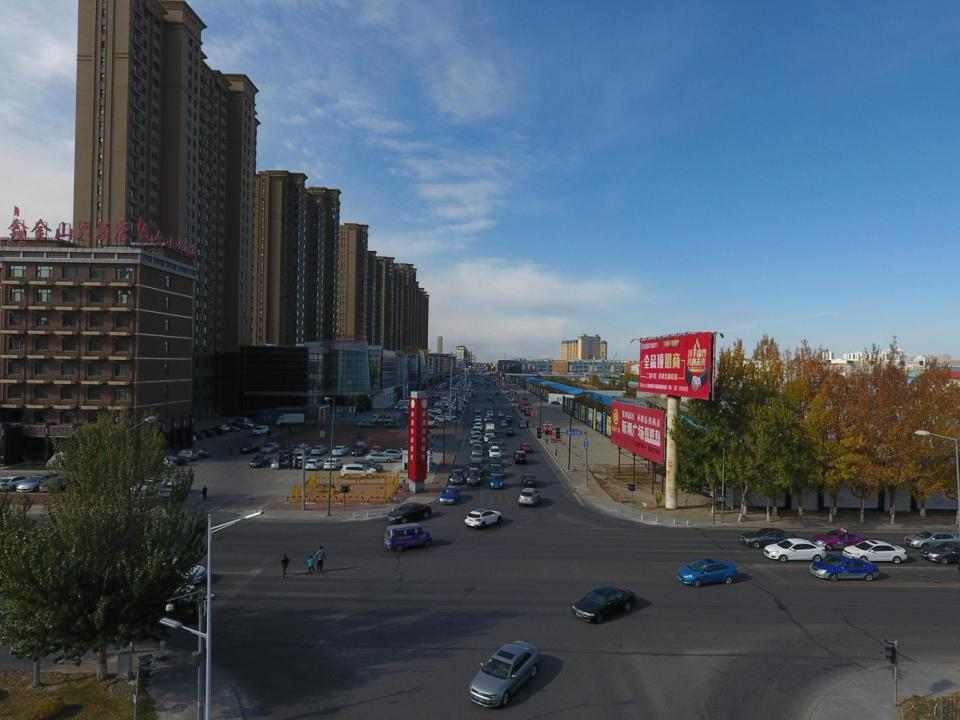bus: (502, 377, 505, 380)
car: (468, 639, 539, 706), (572, 588, 636, 622), (136, 554, 206, 584), (810, 552, 879, 580), (678, 557, 736, 586), (844, 540, 906, 564), (764, 539, 826, 562), (131, 576, 195, 598), (738, 527, 798, 548), (811, 529, 870, 549), (904, 530, 960, 549), (920, 541, 960, 566), (16, 472, 58, 493), (387, 503, 431, 522), (464, 509, 502, 528), (39, 474, 73, 494), (129, 477, 161, 496), (340, 464, 378, 477), (0, 476, 32, 491), (439, 485, 460, 504), (518, 488, 540, 506), (159, 481, 187, 495), (350, 460, 382, 471), (156, 454, 186, 465), (149, 456, 174, 469), (249, 454, 271, 468), (382, 449, 408, 460), (172, 449, 198, 460), (271, 456, 291, 470), (466, 467, 481, 485), (468, 459, 483, 476), (366, 454, 394, 463), (450, 468, 464, 485), (310, 444, 329, 456), (324, 457, 343, 469), (521, 473, 536, 488), (305, 459, 324, 470), (352, 444, 368, 457), (188, 448, 211, 457), (240, 444, 260, 454), (332, 445, 350, 456), (292, 456, 310, 467), (178, 430, 196, 441), (262, 442, 278, 454), (490, 474, 502, 489), (252, 425, 268, 436), (295, 444, 312, 454), (513, 451, 526, 464), (491, 465, 503, 479), (227, 421, 248, 429), (208, 426, 226, 435), (228, 418, 250, 425), (471, 444, 483, 456), (278, 444, 294, 453), (488, 446, 501, 457), (355, 421, 375, 428), (422, 422, 439, 430), (213, 424, 230, 432), (187, 432, 206, 439), (470, 452, 482, 463), (519, 443, 532, 453), (200, 428, 216, 436), (490, 456, 502, 466), (225, 424, 240, 432), (235, 421, 254, 427), (486, 423, 497, 433), (370, 446, 382, 455), (434, 416, 451, 422), (384, 422, 399, 428), (428, 408, 442, 414), (445, 410, 459, 416), (488, 437, 497, 446), (427, 411, 440, 417), (434, 404, 447, 410), (435, 400, 448, 406), (437, 398, 450, 404), (444, 414, 457, 420), (446, 412, 459, 418), (446, 406, 459, 412), (451, 405, 464, 411), (448, 405, 461, 411), (454, 397, 467, 403), (488, 443, 499, 450), (436, 400, 448, 406), (454, 398, 466, 404), (473, 432, 482, 440), (470, 436, 479, 444), (473, 441, 482, 449), (394, 405, 408, 410), (434, 402, 448, 407), (441, 395, 455, 400), (421, 415, 434, 420), (430, 406, 443, 411), (439, 398, 452, 403), (438, 396, 451, 401), (444, 413, 457, 418), (451, 402, 464, 407), (500, 420, 508, 428), (506, 428, 514, 436), (397, 403, 409, 408), (422, 413, 434, 418), (550, 400, 560, 406), (518, 402, 532, 406), (475, 422, 482, 430), (470, 427, 478, 434), (484, 435, 492, 442), (403, 409, 411, 415), (396, 404, 408, 408), (519, 421, 527, 427), (484, 416, 492, 422), (505, 390, 516, 394), (486, 411, 493, 417), (472, 420, 479, 426), (433, 393, 443, 397), (498, 411, 504, 417), (476, 416, 482, 422), (486, 419, 493, 424), (511, 398, 521, 401), (518, 397, 528, 400), (475, 407, 480, 413), (487, 396, 492, 400), (460, 395, 466, 398), (473, 393, 477, 397), (471, 391, 476, 394), (495, 392, 499, 395), (509, 389, 514, 391), (480, 384, 483, 386), (494, 382, 496, 385), (487, 383, 489, 385)
truck: (276, 414, 304, 425), (485, 423, 495, 436)
van: (385, 523, 432, 550), (398, 400, 416, 408), (520, 407, 533, 412), (505, 415, 512, 422)
